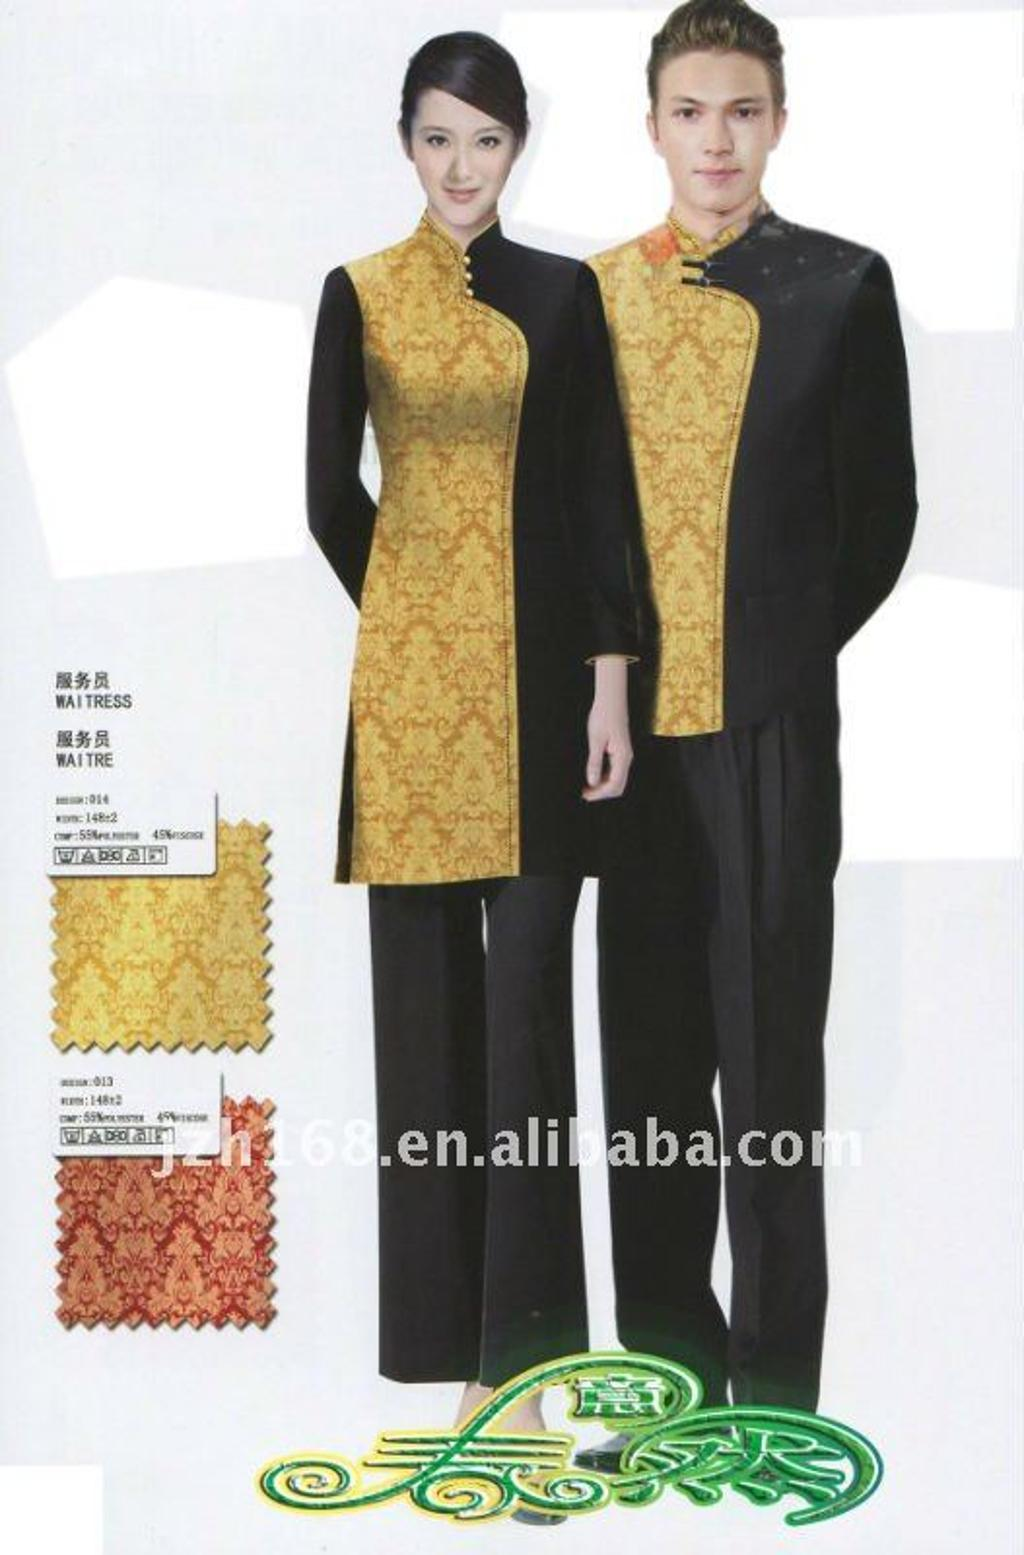face: (656, 52, 771, 213), (413, 70, 513, 228)
